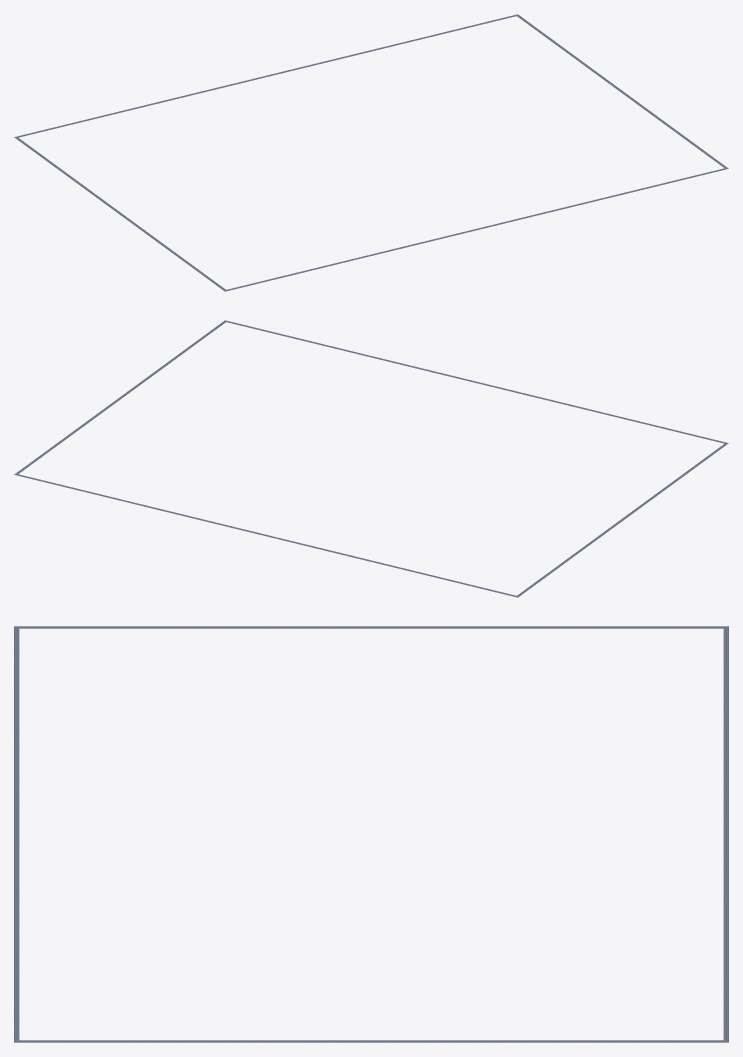
Rendered from kd_stage_135ded_4_42_exterior.glb.
3 views of the same model, one above another, from view 1: azimuth 30°, elevation 25°; view 2: azimuth 150°, elevation 25°; view 3: azimuth 270°, elevation 25° (orthographic). The views are drawn at different scales.
Parts seen in each view (by area): view 1: kd_stage_135ded_4_42_exterior; view 2: kd_stage_135ded_4_42_exterior; view 3: kd_stage_135ded_4_42_exterior.
Boxes of the visible parts, x1,y1,x2,y2 form: kd_stage_135ded_4_42_exterior: [14, 14, 728, 291]; kd_stage_135ded_4_42_exterior: [14, 320, 728, 597]; kd_stage_135ded_4_42_exterior: [14, 626, 728, 1042].
Bounding box in the file's own units: 4.01 × 0.000155 × 2.91.
Materials: 1 (1 with a texture image).
